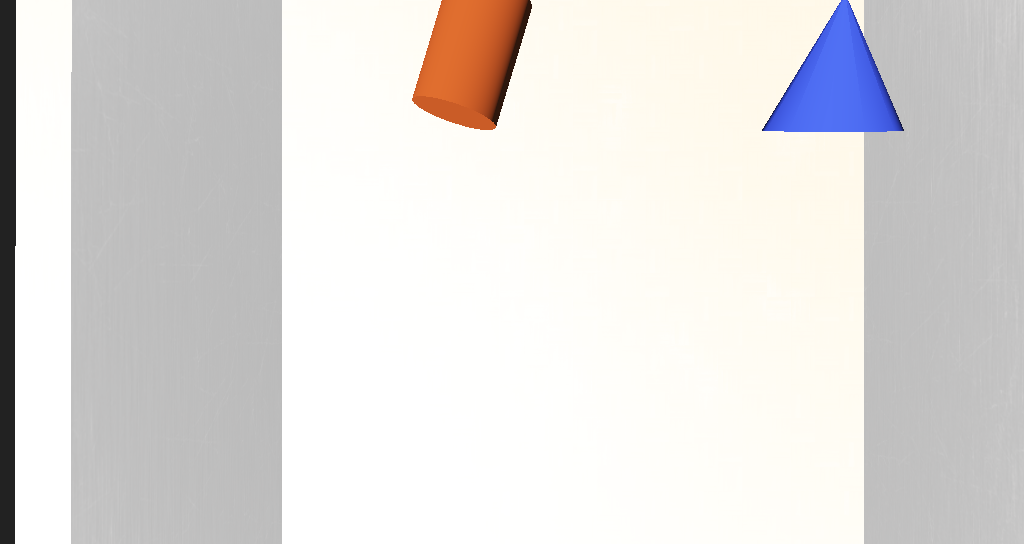cone: (418, 162, 485, 220)
cylinder: (603, 165, 677, 227)
sphere: (249, 93, 330, 155)
